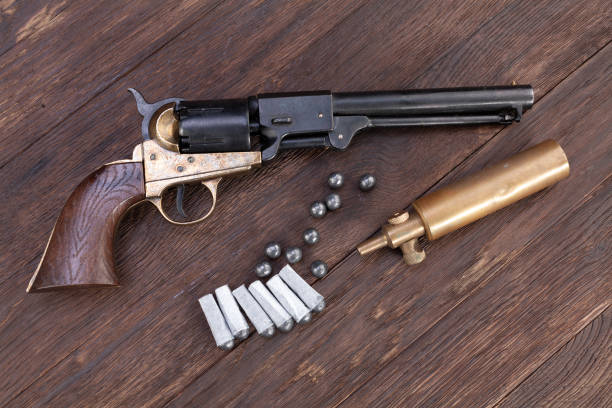gun: (24, 85, 536, 296)
